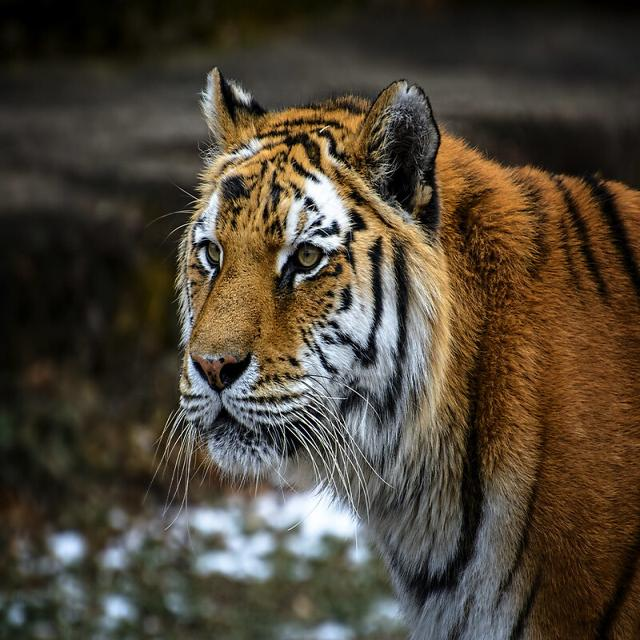Tiger: (175, 66, 640, 639)
